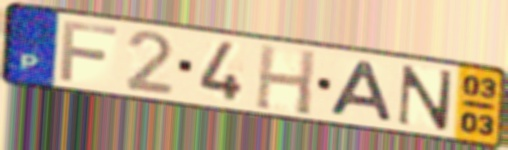2: (121, 29, 176, 97)
4: (197, 40, 246, 104)
A: (327, 58, 396, 125)
F: (57, 18, 121, 84)
H: (252, 41, 319, 118)
N: (395, 62, 457, 133)
